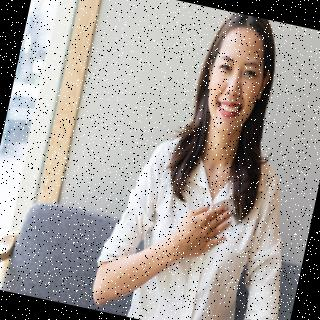Please: (174, 192, 237, 258)
